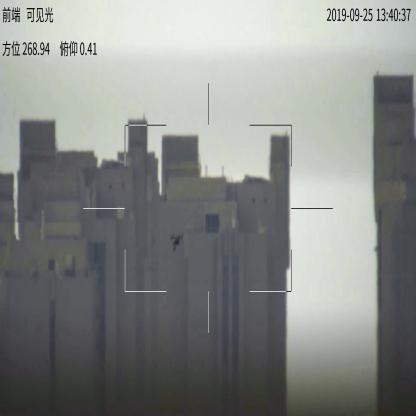uav: (166, 232, 189, 253)
